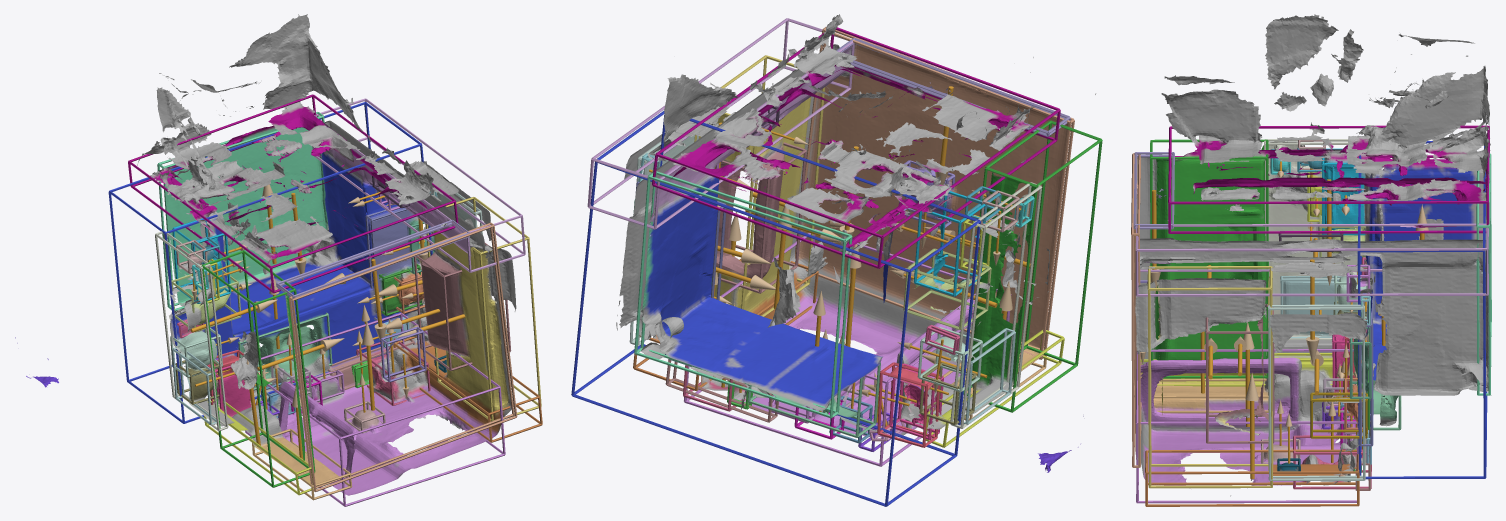
The model's file is scene_00057_01-obb.compressed.gltf.
The picture shows the model from 3 angles, left to right: view 1: azimuth 30°, elevation 25°; view 2: azimuth 150°, elevation 25°; view 3: azimuth 270°, elevation 25°; orthographic projection. The views are drawn at different scales.
Bounding box in the file's own units: 3.61 × 3.08 × 2.57.
